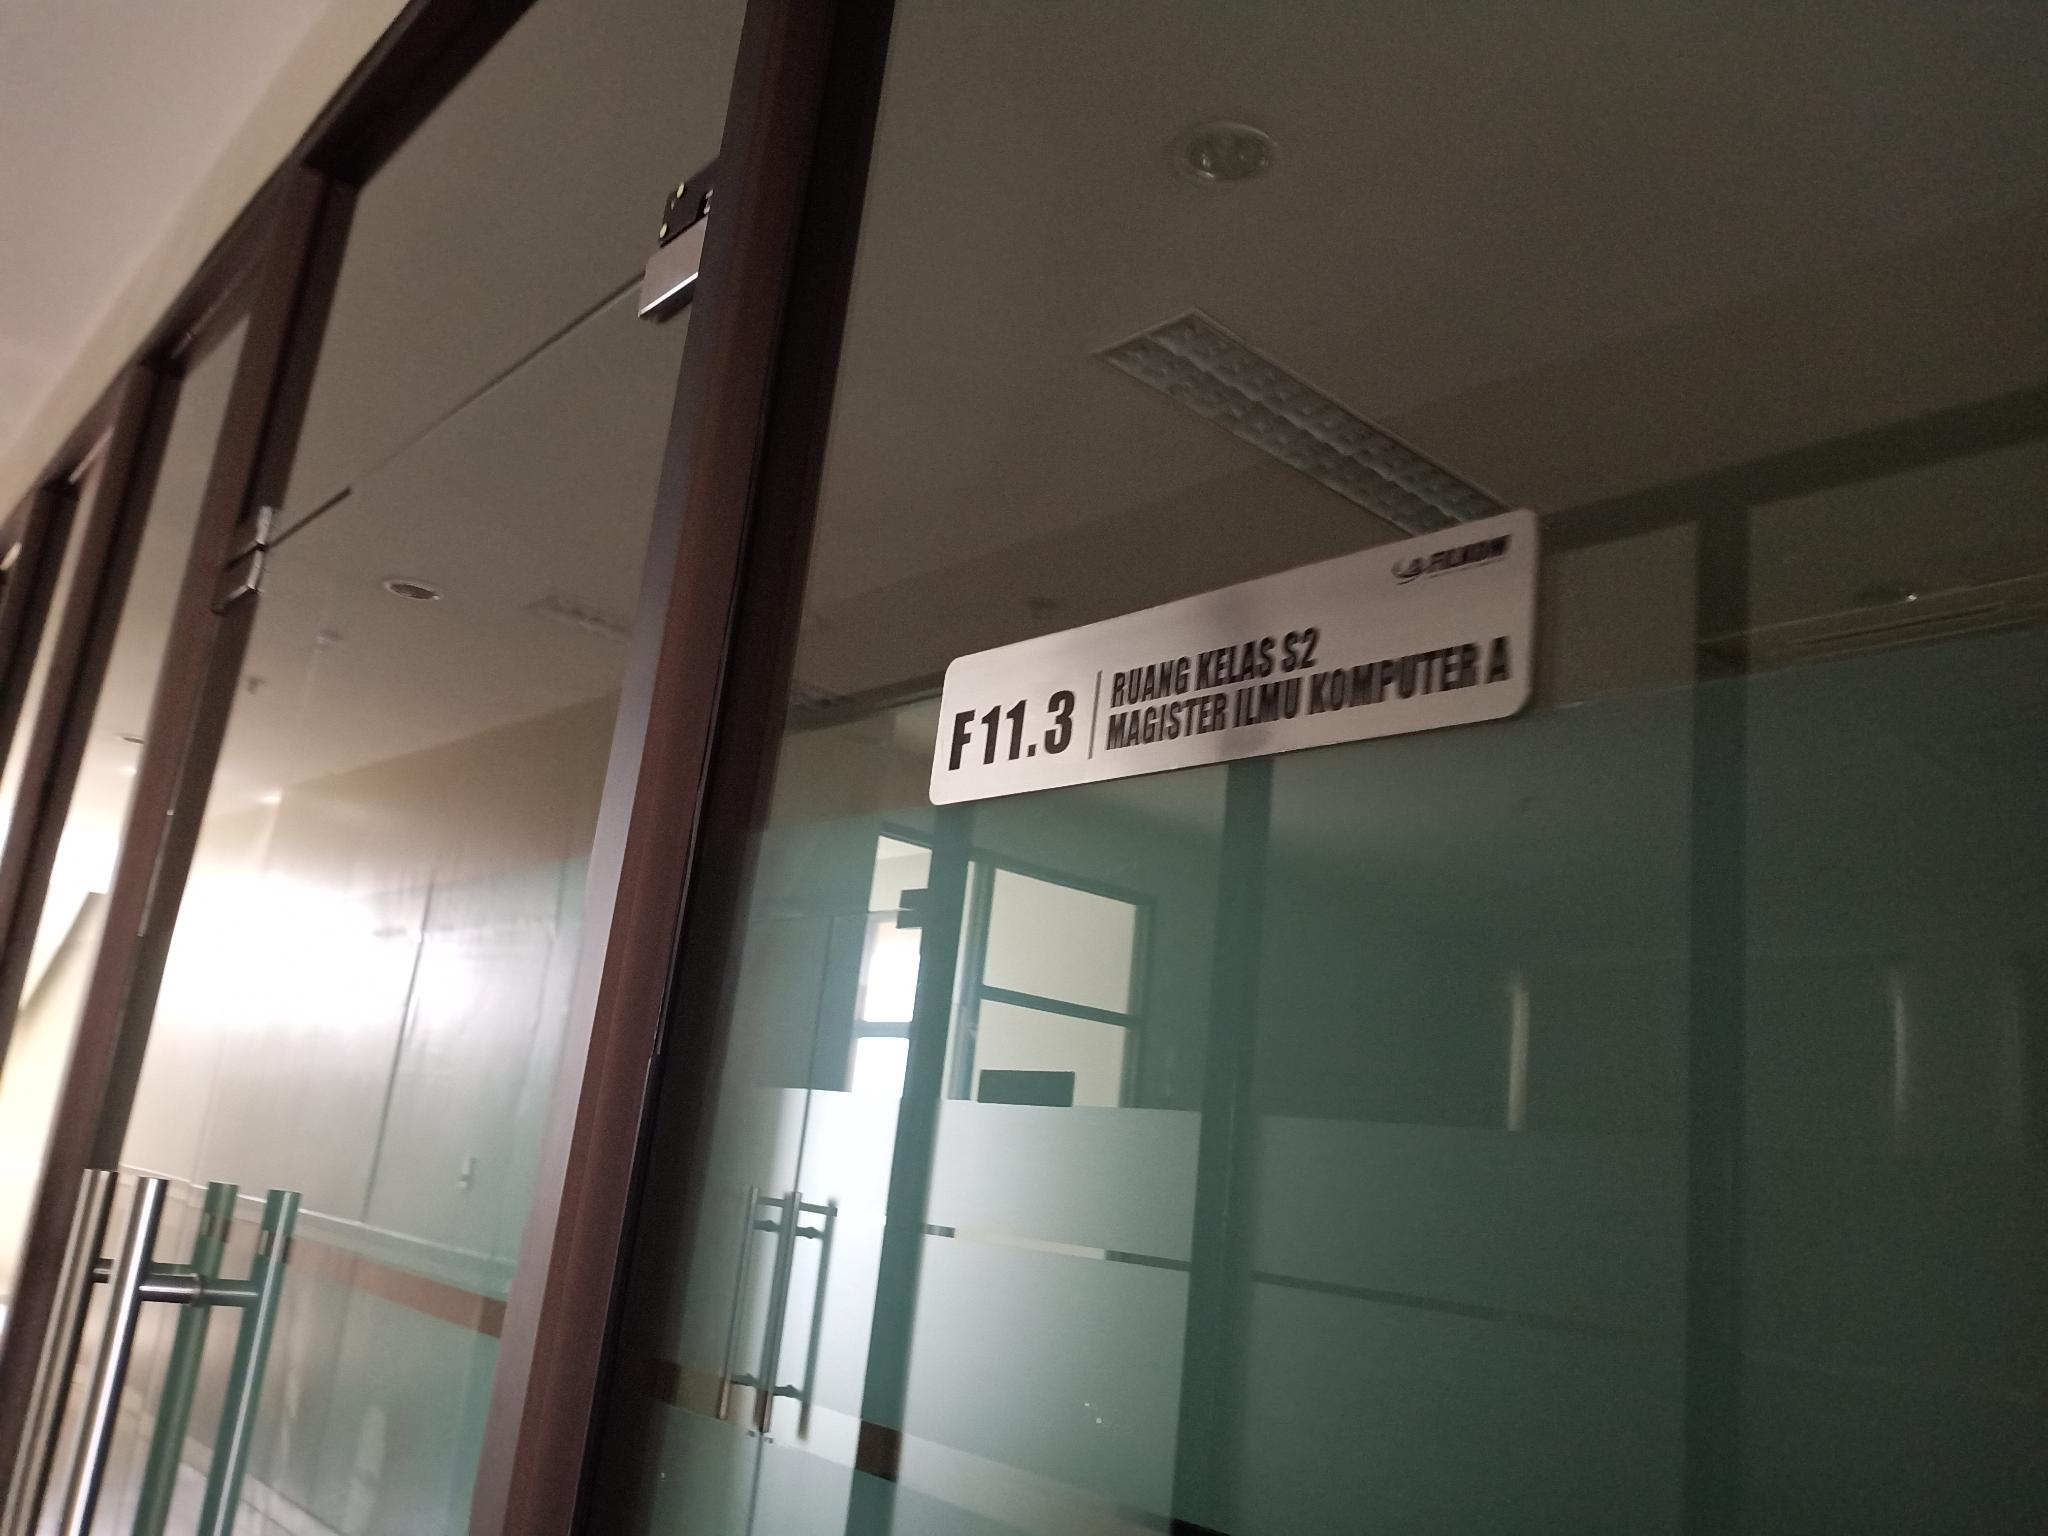plate: (922, 502, 1537, 813)
